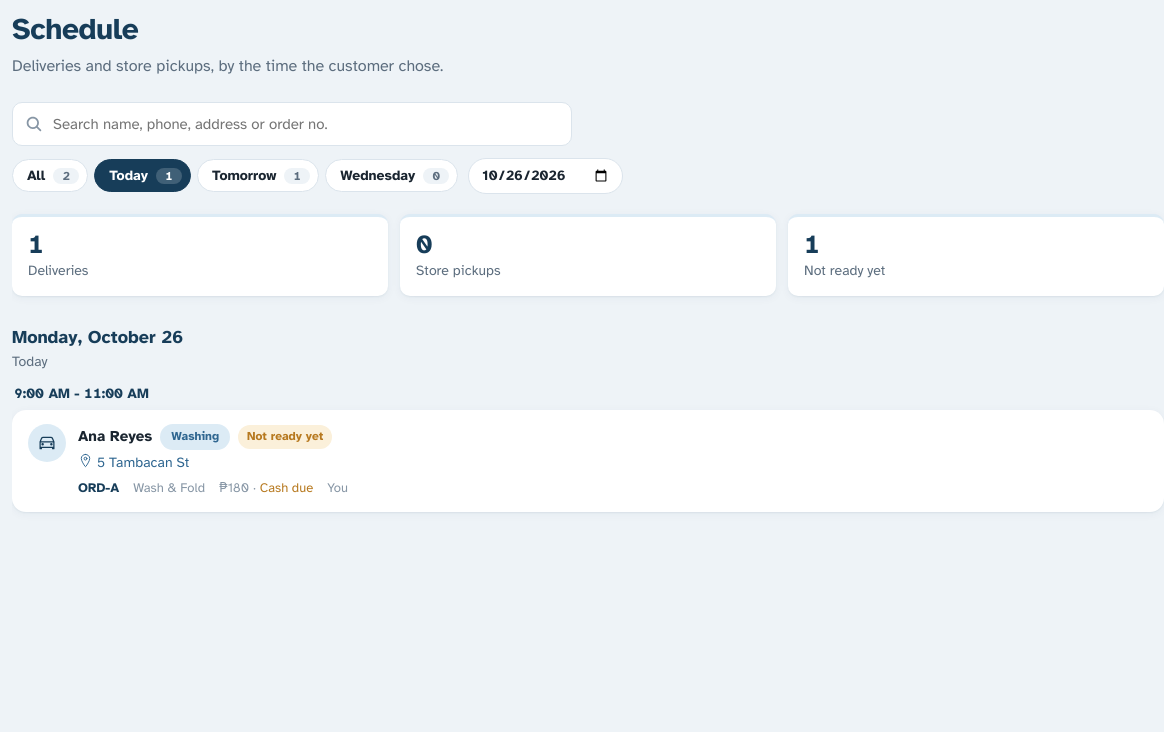
Test: schedule › page: All chip + search bar (search covers name, phone and address)
expect the text "2" is shown: met, box left=53, top=168, right=79, bottom=184
expect the 1st text "1" is shown: met, box left=156, top=168, right=182, bottom=184
Click the tab "All 2" at (50, 176), box left=12, top=159, right=88, bottom=192
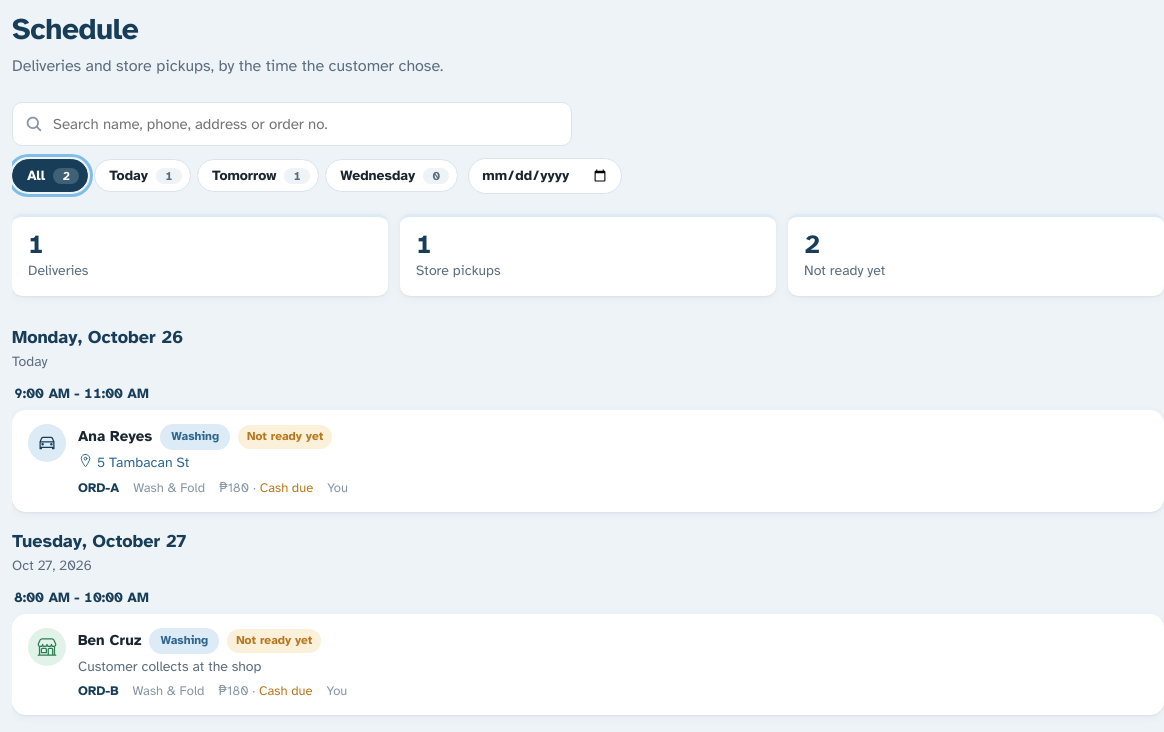
expect the text "Ana Reyes" is shown: met, box left=78, top=426, right=152, bottom=448
expect the text "Ben Cruz" is shown: met, box left=78, top=630, right=141, bottom=652
Type "tambacan" into the search field at (306, 124), box left=53, top=103, right=559, bottom=145
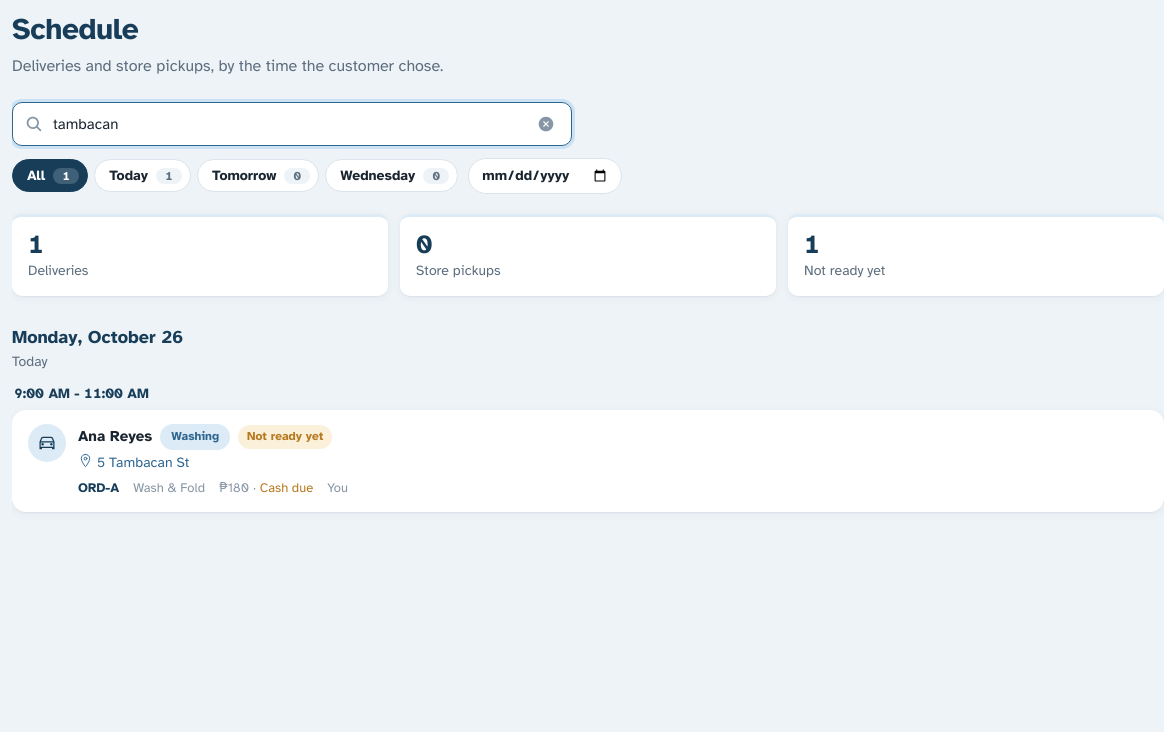
expect the text "Ana Reyes" is shown: met, box left=78, top=426, right=152, bottom=448
expect the text "Ben Cruz" is gone: met
Clear the search field at (288, 124), box left=53, top=103, right=523, bottom=145
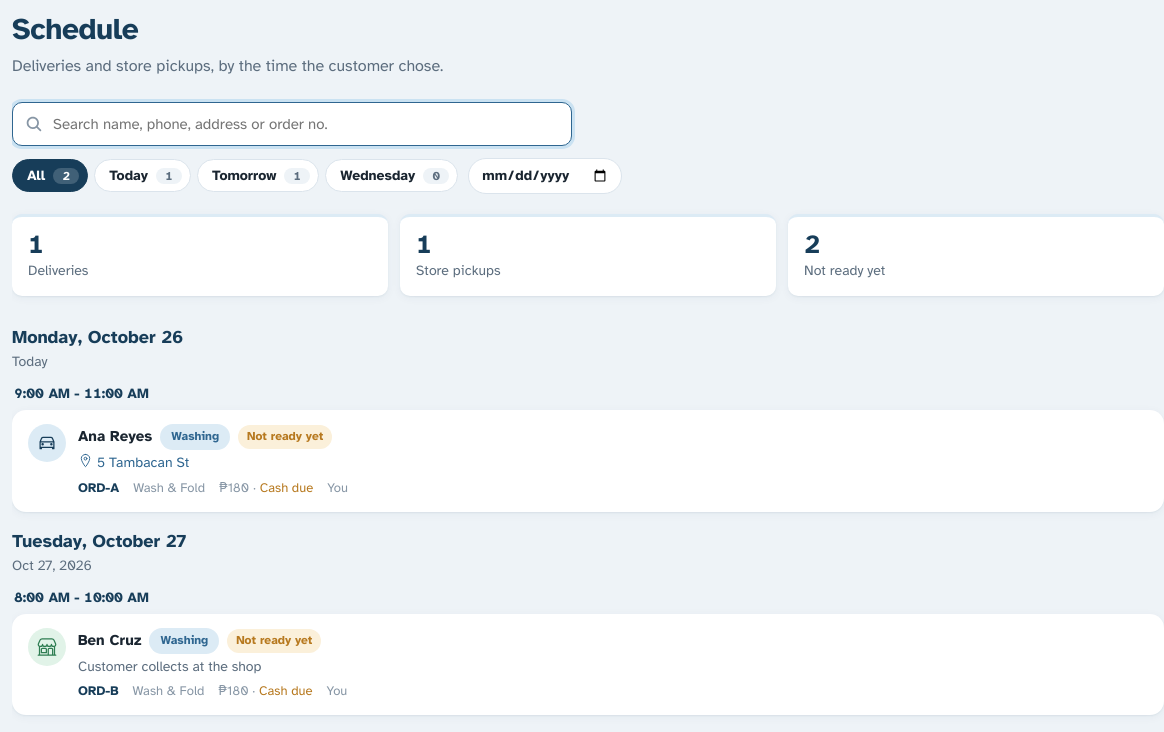
Type "0918 555" into the search field at (306, 124), box left=53, top=103, right=559, bottom=145
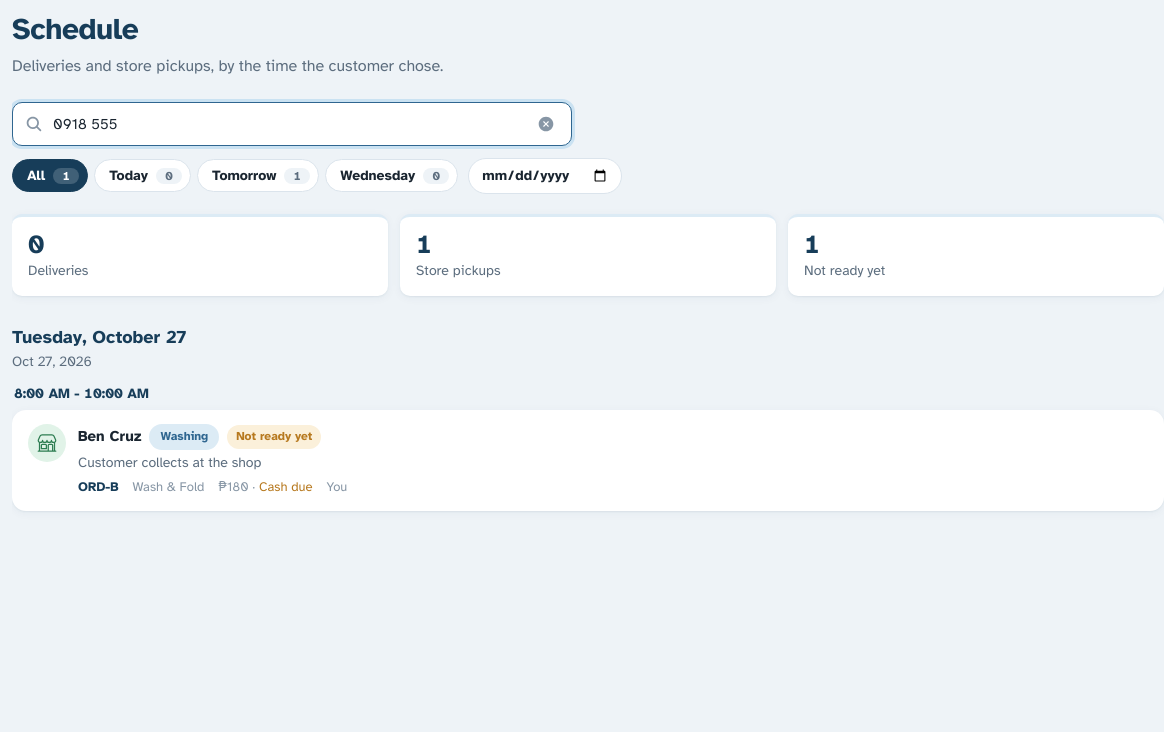
expect the text "Ben Cruz" is shown: met, box left=78, top=426, right=141, bottom=448
expect the text "Ana Reyes" is gone: met
Clear the search field at (288, 124), box left=53, top=103, right=523, bottom=145
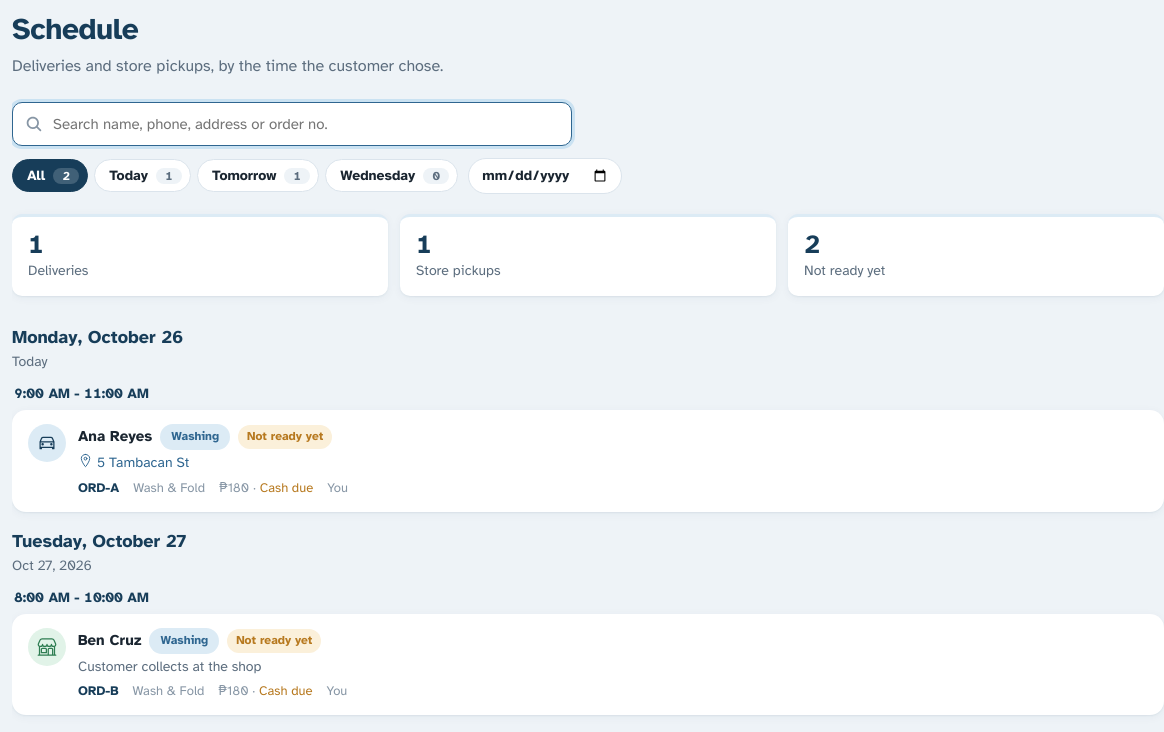
Type "zzz" into the search field at (306, 124), box left=53, top=103, right=559, bottom=145
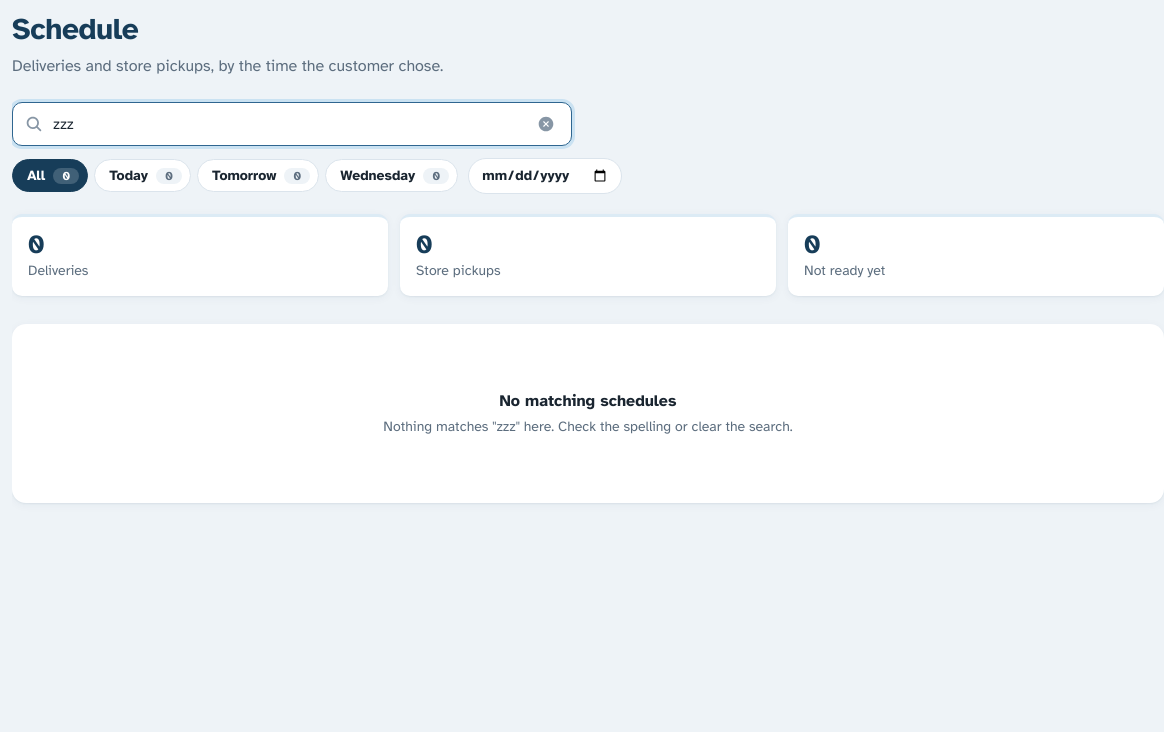
expect the text "No matching schedules" is shown: met, box left=500, top=391, right=676, bottom=411
